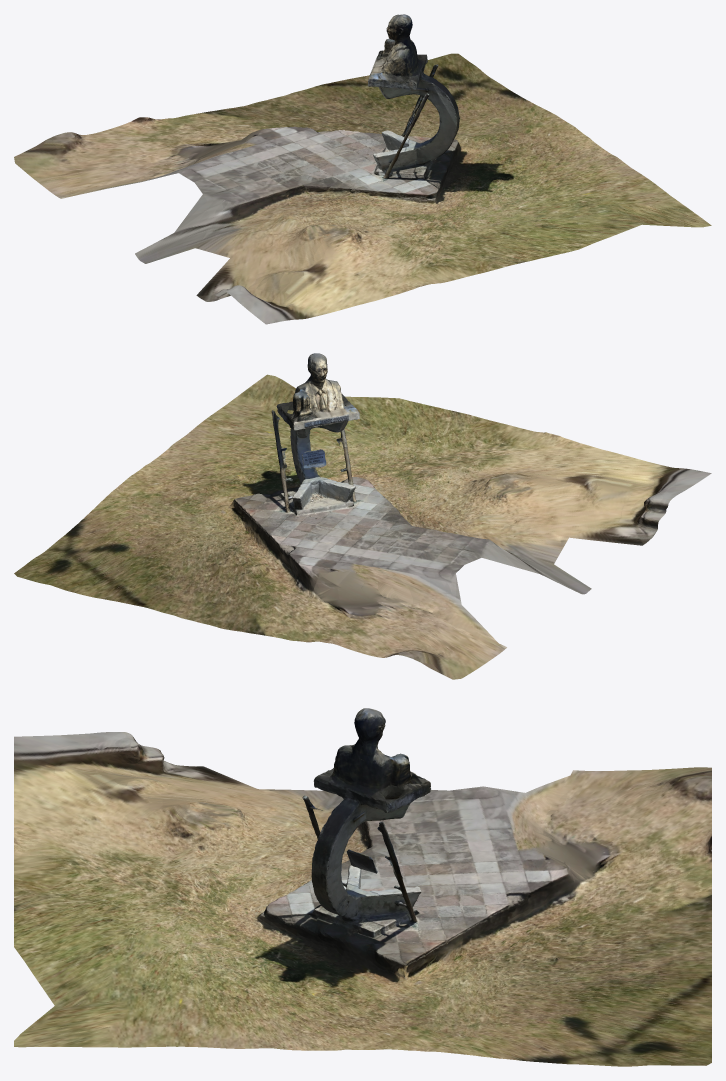
File: monumento.glb
The picture shows the model from 3 angles, top to bottom: view 1: azimuth 30°, elevation 25°; view 2: azimuth 150°, elevation 25°; view 3: azimuth 270°, elevation 25°; orthographic projection. The views are drawn at different scales.
Bounding box in the file's own units: 2.46 × 0.9383 × 2.44.
1 material, 1 textured.
